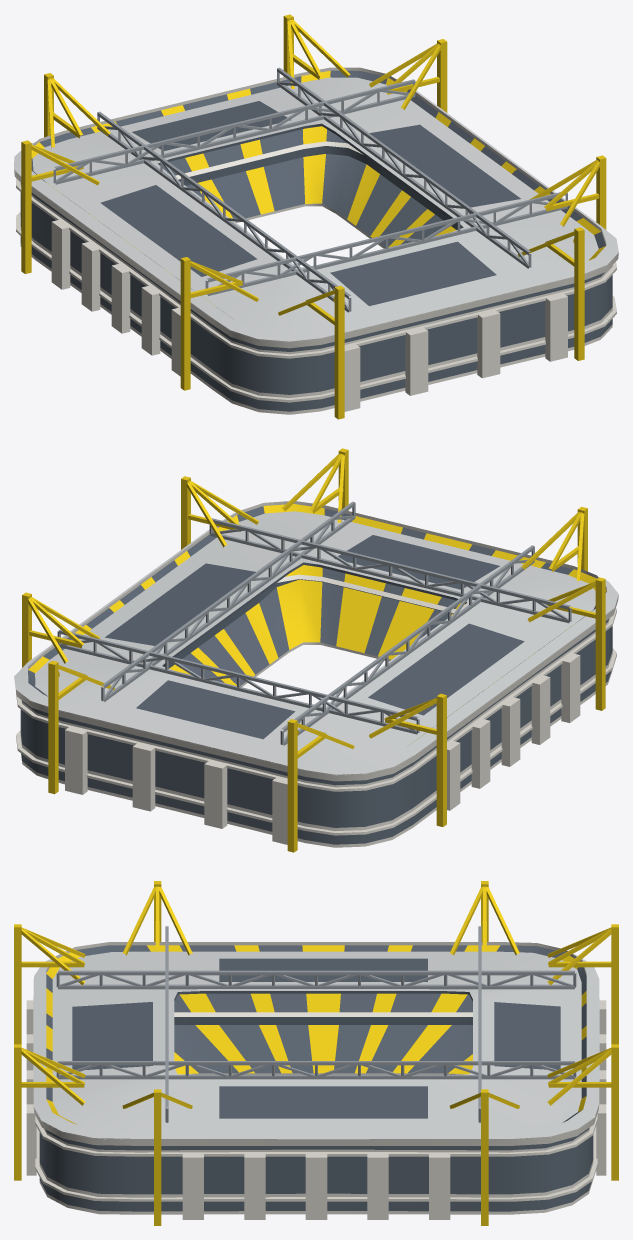
File: dortmund-signal-iduna-park.glb
3 views of the same model, one above another, from view 1: azimuth 30°, elevation 25°; view 2: azimuth 150°, elevation 25°; view 3: azimuth 270°, elevation 25° (orthographic). The views are drawn at different scales.
Parts seen in each view (by area): view 1: Signal Iduna Park; view 2: Signal Iduna Park; view 3: Signal Iduna Park.
Part boxes in pixels (x1,y1,x2,y2): Signal Iduna Park: (14, 14, 618, 419); Signal Iduna Park: (14, 448, 618, 852); Signal Iduna Park: (14, 881, 618, 1225).
Bounding box in the file's own units: 211 × 62 × 255.
